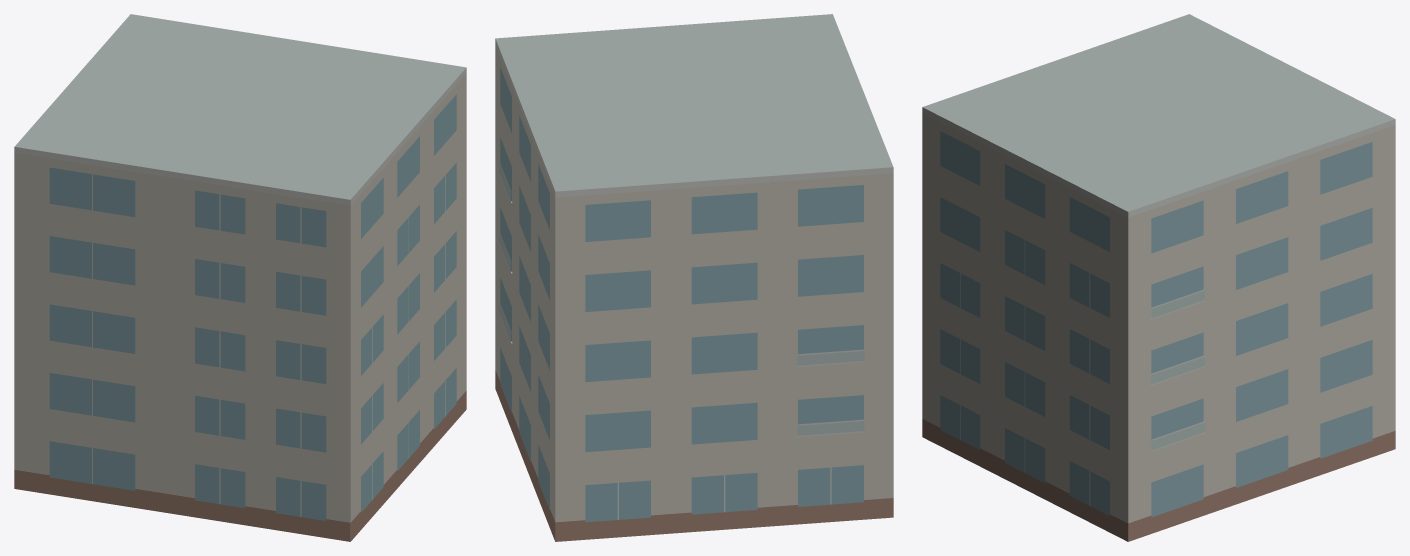
File: survey-upis-32847354.glb
3 renders of one model, left to right at view 1: azimuth 30°, elevation 25°; view 2: azimuth 150°, elevation 25°; view 3: azimuth 270°, elevation 25°, orthographic. The views are drawn at different scales.
Visible parts, largest first — view 1: survey-upis-32847354.tmp; view 2: survey-upis-32847354.tmp; view 3: survey-upis-32847354.tmp.
Part boxes in pixels (box(x1,y1,x2,y2)): survey-upis-32847354.tmp: box(14, 14, 466, 541); survey-upis-32847354.tmp: box(495, 14, 893, 541); survey-upis-32847354.tmp: box(922, 14, 1395, 541).
Bounding box in the file's own units: 17.95 × 13.95 × 18.15.
